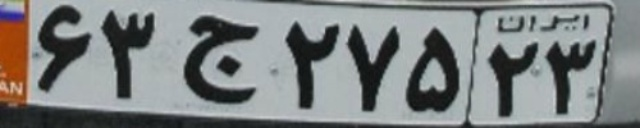2: (284, 21, 338, 108), (487, 39, 539, 117)
3: (101, 11, 156, 98), (544, 39, 596, 116)
5: (408, 26, 459, 110)
6: (37, 3, 89, 95)
7: (345, 26, 401, 112)
jim: (183, 15, 260, 103)
